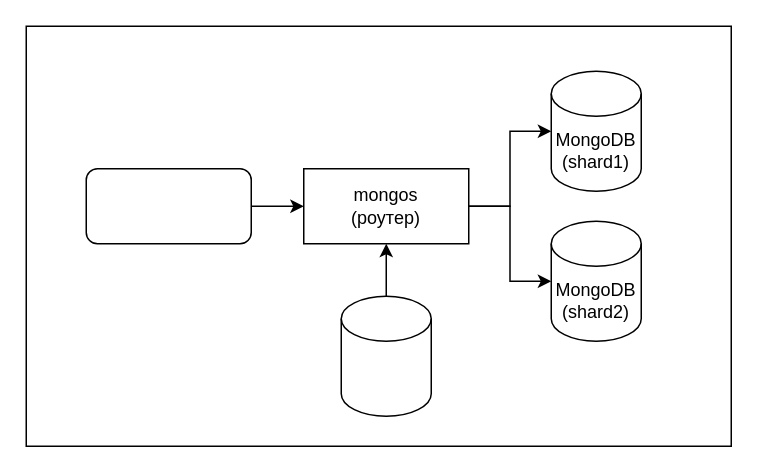
Some shapes in this 758 by 473 pixel diagram are drawn without their labels. Here are the shapes that lost their labels. From the top down, the centre of each, then its label:
point 168,205: pymongo-api
point 385,355: config server
